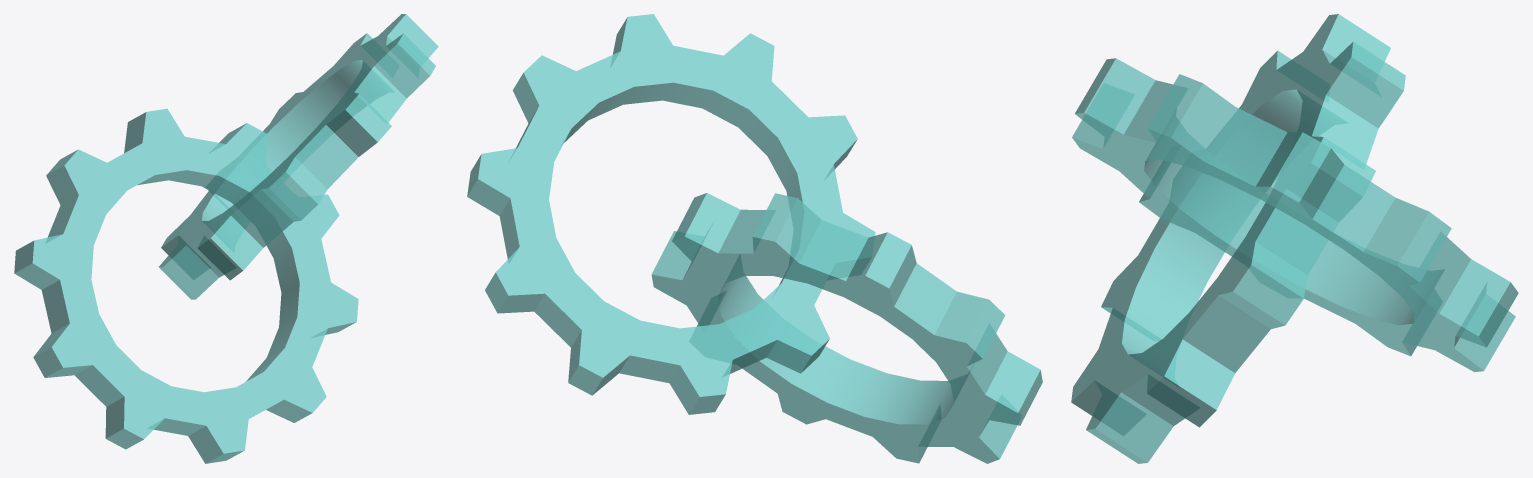
Rendered from parallel.glb.
3 views of the same model, side by side, from view 1: azimuth 30°, elevation 25°; view 2: azimuth 150°, elevation 25°; view 3: azimuth 270°, elevation 25° (orthographic). The views are drawn at different scales.
Visible parts, largest first — view 1: pGear3.001, pGear4.001; view 2: pGear4.001, pGear3.001; view 3: pGear3.001, pGear4.001.
Boxes of the visible parts, x1=… form: pGear3.001: x1=14, y1=108, x2=358, y2=463; pGear4.001: x1=159, y1=14, x2=438, y2=299; pGear4.001: x1=467, y1=14, x2=875, y2=414; pGear3.001: x1=651, y1=193, x2=1042, y2=463; pGear3.001: x1=1071, y1=14, x2=1405, y2=463; pGear4.001: x1=1072, y1=58, x2=1518, y2=372.
Bounding box in the file's own units: 3.97 × 3.19 × 2.63.
1 material, 1 textured.
